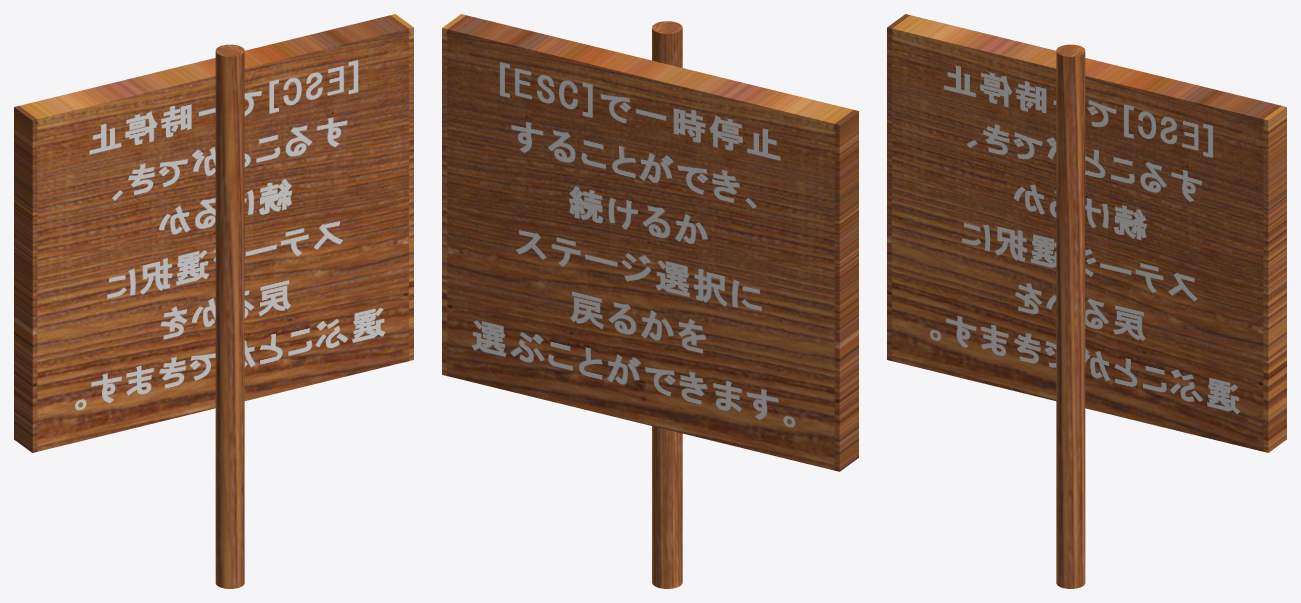
The model's file is Sign4.fbx.
3 views of the same model, side by side, from view 1: azimuth 30°, elevation 25°; view 2: azimuth 150°, elevation 25°; view 3: azimuth 330°, elevation 25° (orthographic). The views are drawn at different scales.
Visible parts, largest first — view 1: pCube1, pCylinder1; view 2: pCube1, pCylinder1; view 3: pCube1, pCylinder1.
Boxes of the visible parts, box(x1,y1,x2,y2) form: pCube1: box(14, 14, 413, 452); pCylinder1: box(215, 44, 244, 588); pCube1: box(442, 14, 858, 471); pCylinder1: box(652, 21, 682, 588); pCube1: box(887, 14, 1286, 452); pCylinder1: box(1056, 44, 1085, 588).
Size of the model in its own units: 1.2 by 1.6 by 0.1781.
